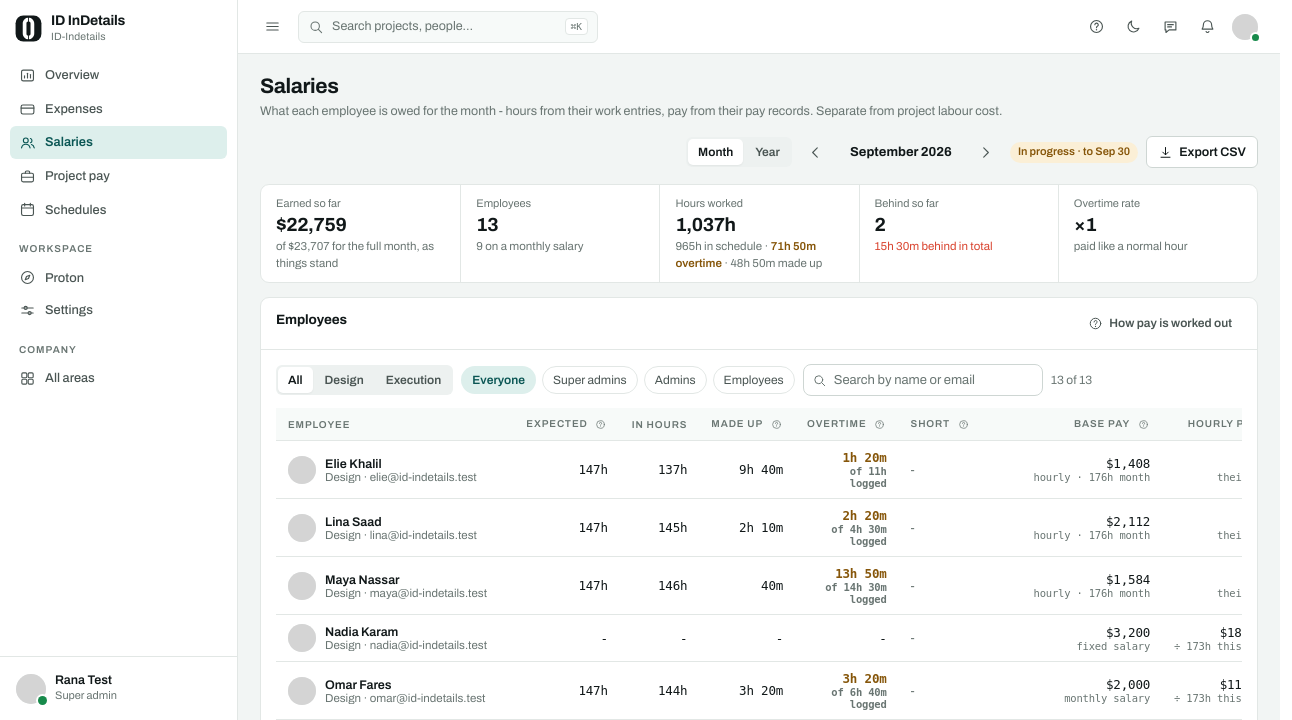
it: Salaries › export every page as filtered
Expected: the text "Elie Khalil" is shown, [325,457,382,471]
Click the button "Export CSV" at (1202, 152), box [1146,136,1258,168]
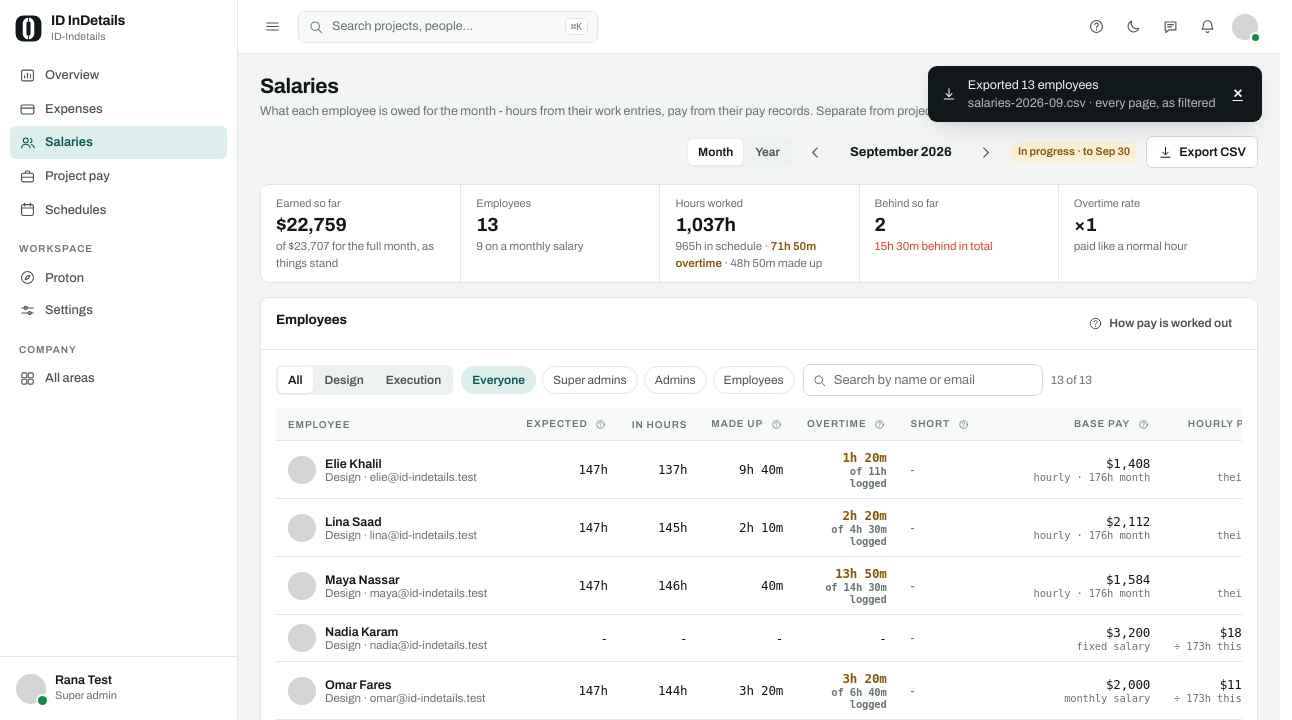
Expected: the text "Exported 13 employees" is shown, [968,78,1099,92]
Expected: the text "salaries-2026-09.csv · every page, as filtered" is shown, [968,94,1216,112]
